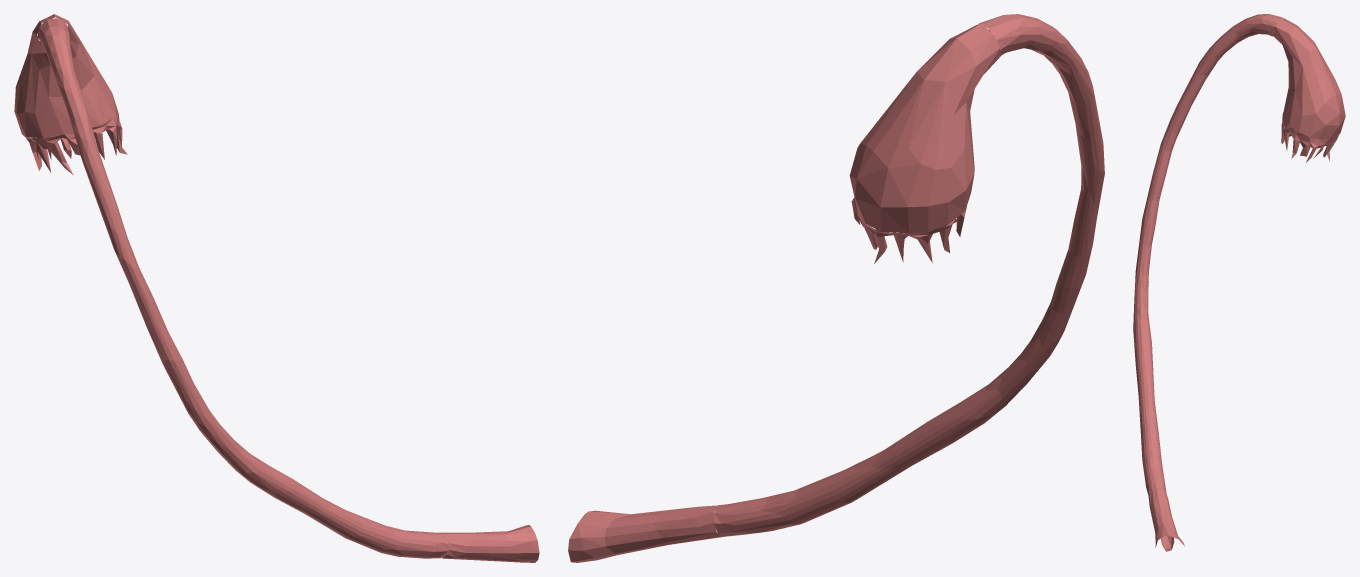
Rendered from VH_F_Fallopian_Tube_R_0.1.glb.
3 renders of one model, left to right at view 1: azimuth 30°, elevation 25°; view 2: azimuth 150°, elevation 25°; view 3: azimuth 270°, elevation 25°, orthographic. The views are drawn at different scales.
Parts seen in each view (by area): view 1: VH_F_ampulla_of_uterine_tube_R, VH_F_uterine_tube_infundibulum_R, VH_F_isthmus_of_fallopian_tube_R, VH_F_fibria_of_uterine_tube_R; view 2: VH_F_ampulla_of_uterine_tube_R, VH_F_uterine_tube_infundibulum_R, VH_F_isthmus_of_fallopian_tube_R, VH_F_fibria_of_uterine_tube_R; view 3: VH_F_ampulla_of_uterine_tube_R, VH_F_uterine_tube_infundibulum_R, VH_F_isthmus_of_fallopian_tube_R, VH_F_fibria_of_uterine_tube_R.
Part boxes in pixels (x1,y1,x2,y2): VH_F_ampulla_of_uterine_tube_R: [37, 18, 449, 558]; VH_F_uterine_tube_infundibulum_R: [14, 14, 118, 138]; VH_F_isthmus_of_fallopian_tube_R: [438, 525, 539, 562]; VH_F_fibria_of_uterine_tube_R: [23, 114, 127, 175]; VH_F_ampulla_of_uterine_tube_R: [714, 14, 1104, 536]; VH_F_uterine_tube_infundibulum_R: [849, 23, 1000, 233]; VH_F_isthmus_of_fallopian_tube_R: [568, 505, 723, 562]; VH_F_fibria_of_uterine_tube_R: [851, 197, 966, 263]; VH_F_ampulla_of_uterine_tube_R: [1133, 14, 1282, 494]; VH_F_uterine_tube_infundibulum_R: [1272, 18, 1345, 139]; VH_F_isthmus_of_fallopian_tube_R: [1148, 488, 1184, 551]; VH_F_fibria_of_uterine_tube_R: [1281, 113, 1338, 162].
Size of the model in its own units: 0.0344 by 0.0446 by 0.021.
